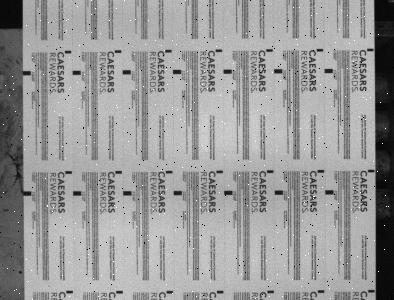qblock: (274, 68, 283, 73), (73, 190, 82, 195), (123, 190, 132, 195), (275, 189, 284, 194), (325, 189, 334, 194), (123, 69, 131, 74), (325, 68, 333, 73), (174, 190, 182, 195), (23, 70, 31, 75), (72, 70, 81, 74), (224, 190, 233, 194), (173, 69, 181, 73), (224, 69, 232, 73), (23, 191, 31, 195)
smallqblock: (217, 290, 225, 294), (216, 48, 223, 52), (167, 290, 174, 294), (166, 170, 173, 174), (116, 170, 122, 174), (165, 49, 172, 52), (66, 290, 73, 293), (268, 290, 275, 293), (116, 290, 123, 293), (318, 290, 325, 293), (369, 289, 376, 292), (115, 50, 122, 53), (317, 48, 324, 51), (367, 48, 374, 51), (216, 170, 223, 173), (65, 50, 71, 53), (268, 170, 274, 173), (267, 48, 273, 51), (318, 170, 324, 173), (369, 169, 375, 172), (66, 171, 72, 174)
